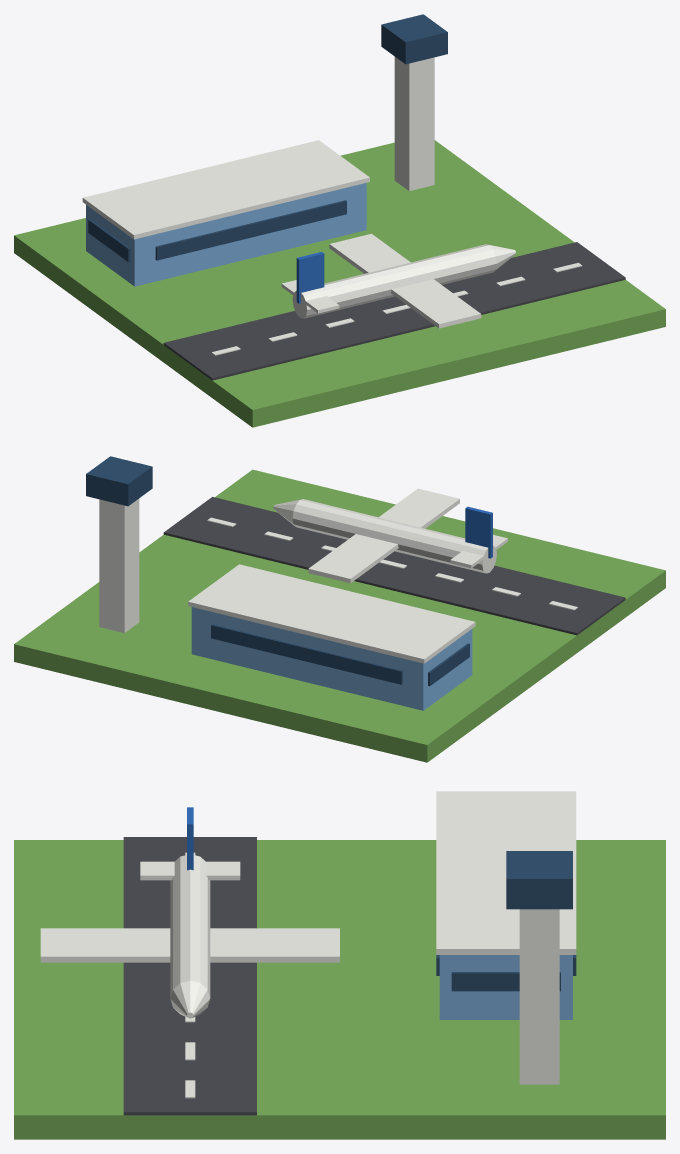
The model's file is airport_sheremetyevo.glb.
The picture shows the model from 3 angles, top to bottom: view 1: azimuth 30°, elevation 25°; view 2: azimuth 150°, elevation 25°; view 3: azimuth 270°, elevation 25°; orthographic projection. The views are drawn at different scales.
Parts seen in each view (by area): view 1: airport_sheremetyevo; view 2: airport_sheremetyevo; view 3: airport_sheremetyevo.
Boxes of the visible parts, box(x1,y1,x2,y2) form: airport_sheremetyevo: box(14, 14, 665, 427); airport_sheremetyevo: box(14, 456, 665, 762); airport_sheremetyevo: box(14, 791, 665, 1139).
Bounding box in the file's own units: 1.96 × 0.78 × 1.96.
